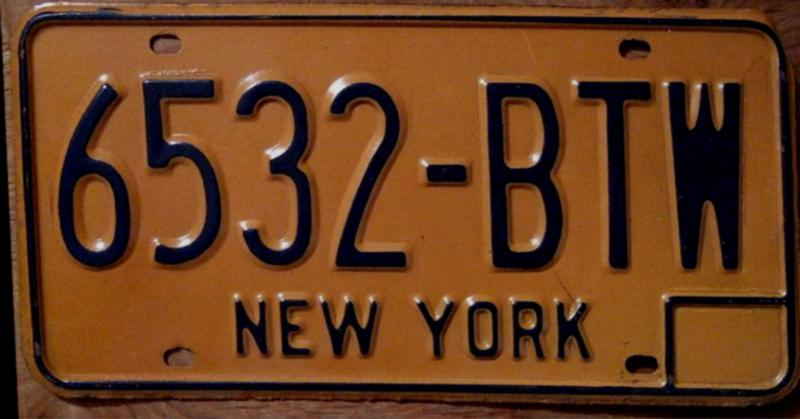License_Plate: (22, 13, 800, 402)
